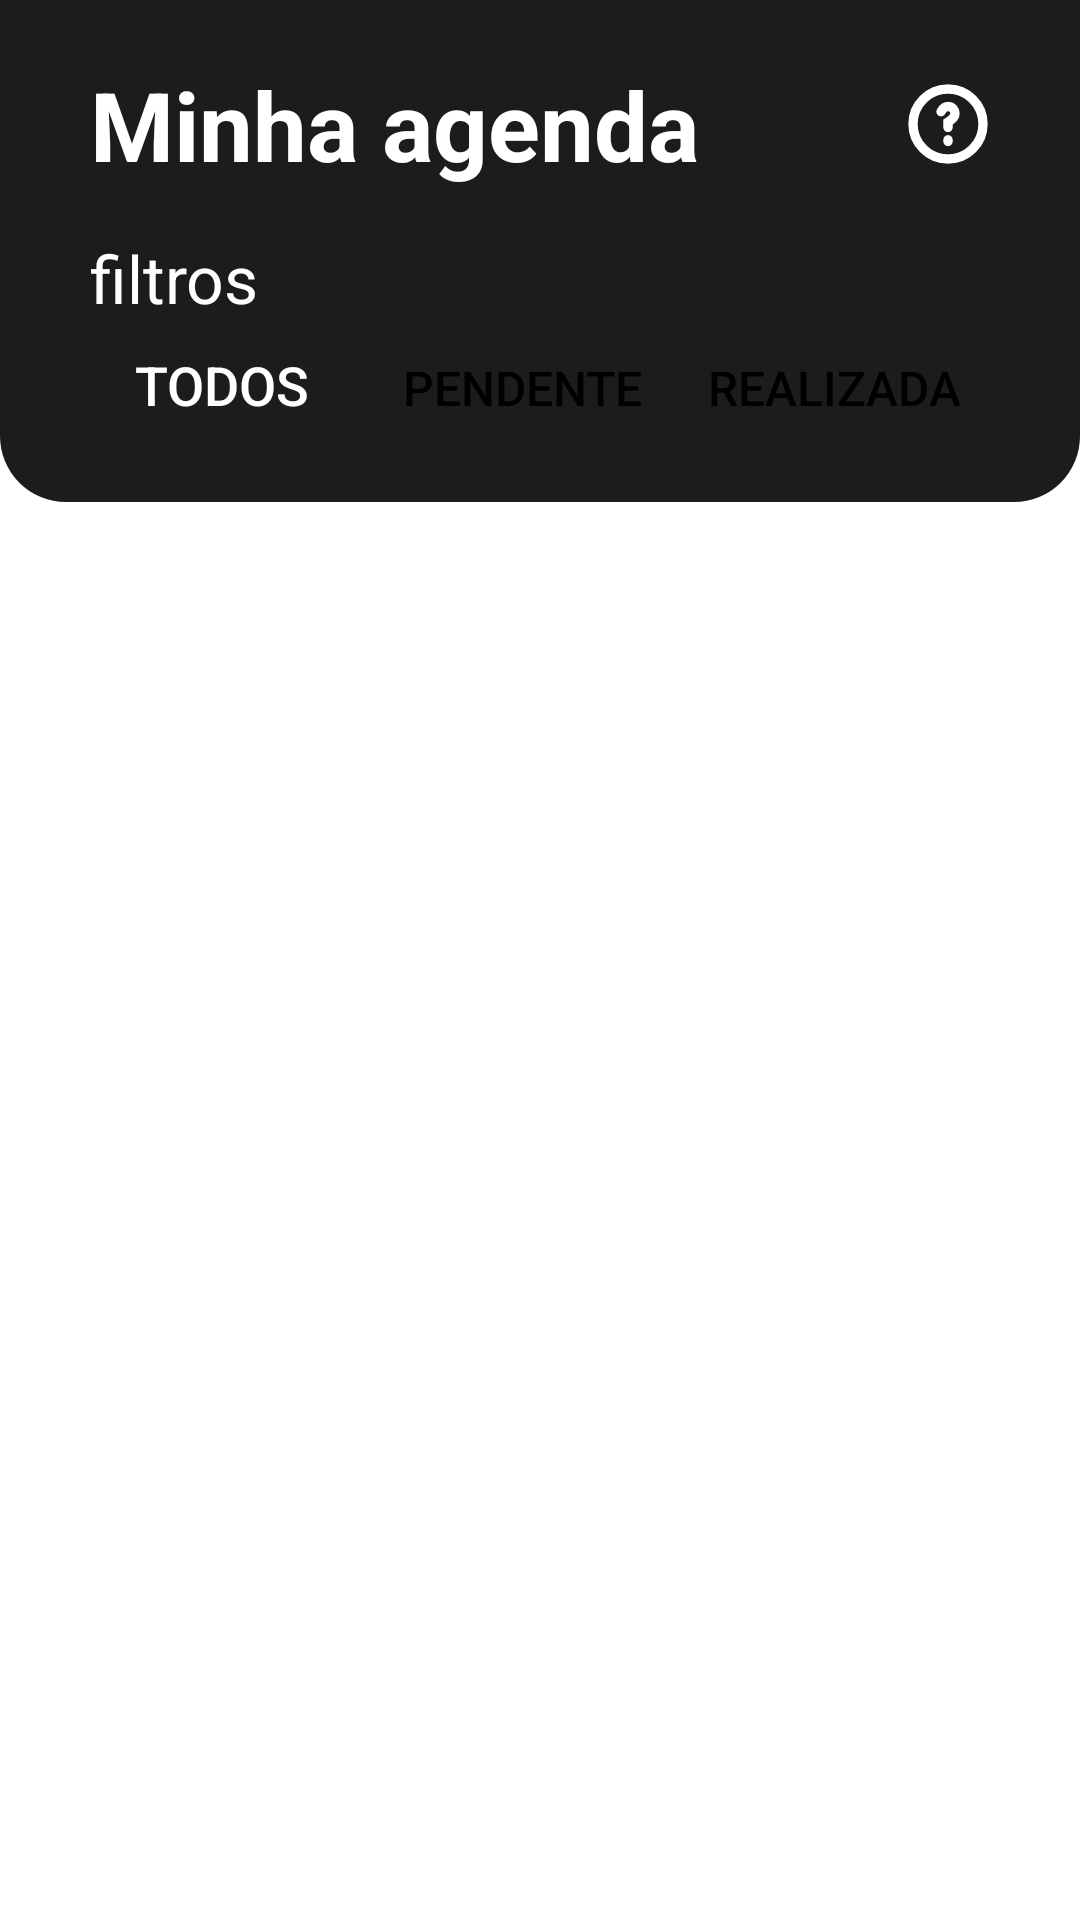

Named icons in this screenshot (1080x1920) and their bounding boxes, (x1, y1, x2, y2):
interrogacao: (908, 84, 988, 164)
